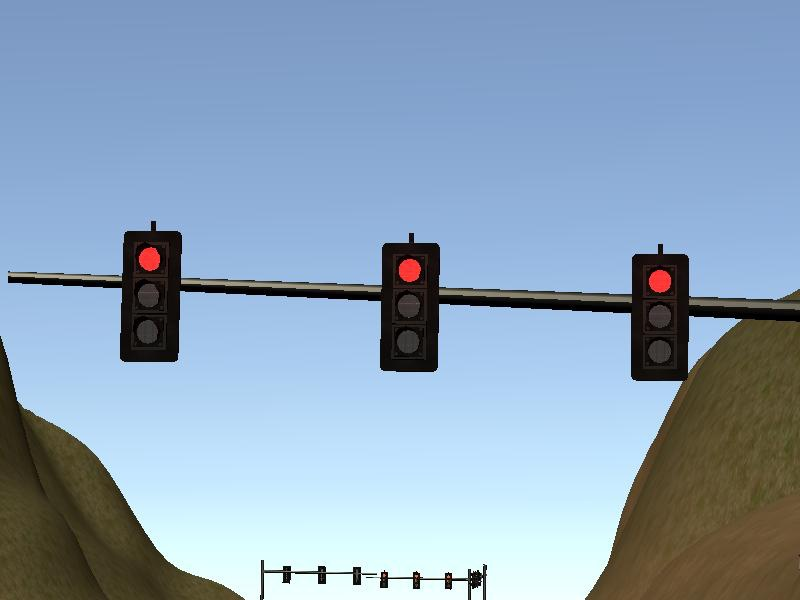red_light: (124, 233, 178, 359), (383, 246, 437, 372), (636, 256, 689, 381)
